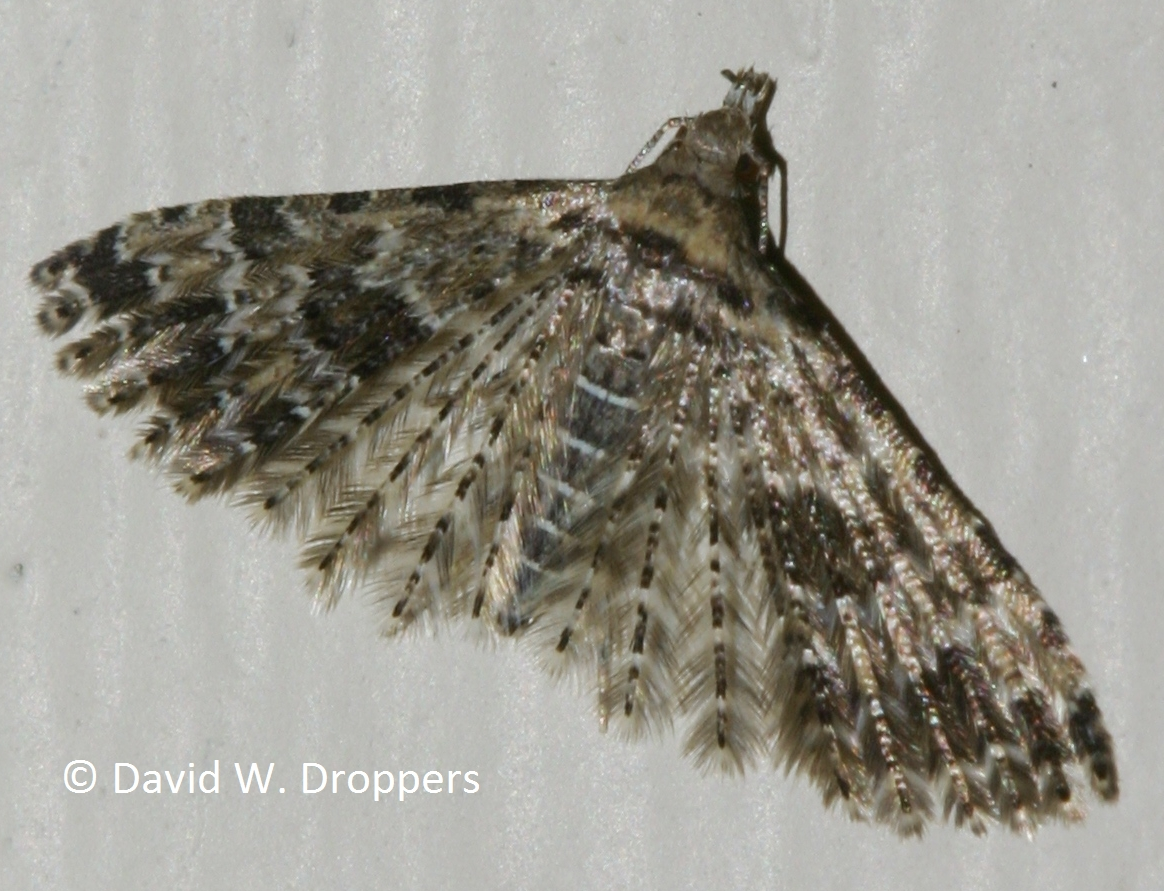Alucitidae: (21, 52, 1130, 852)
moth: (23, 54, 1132, 854)
